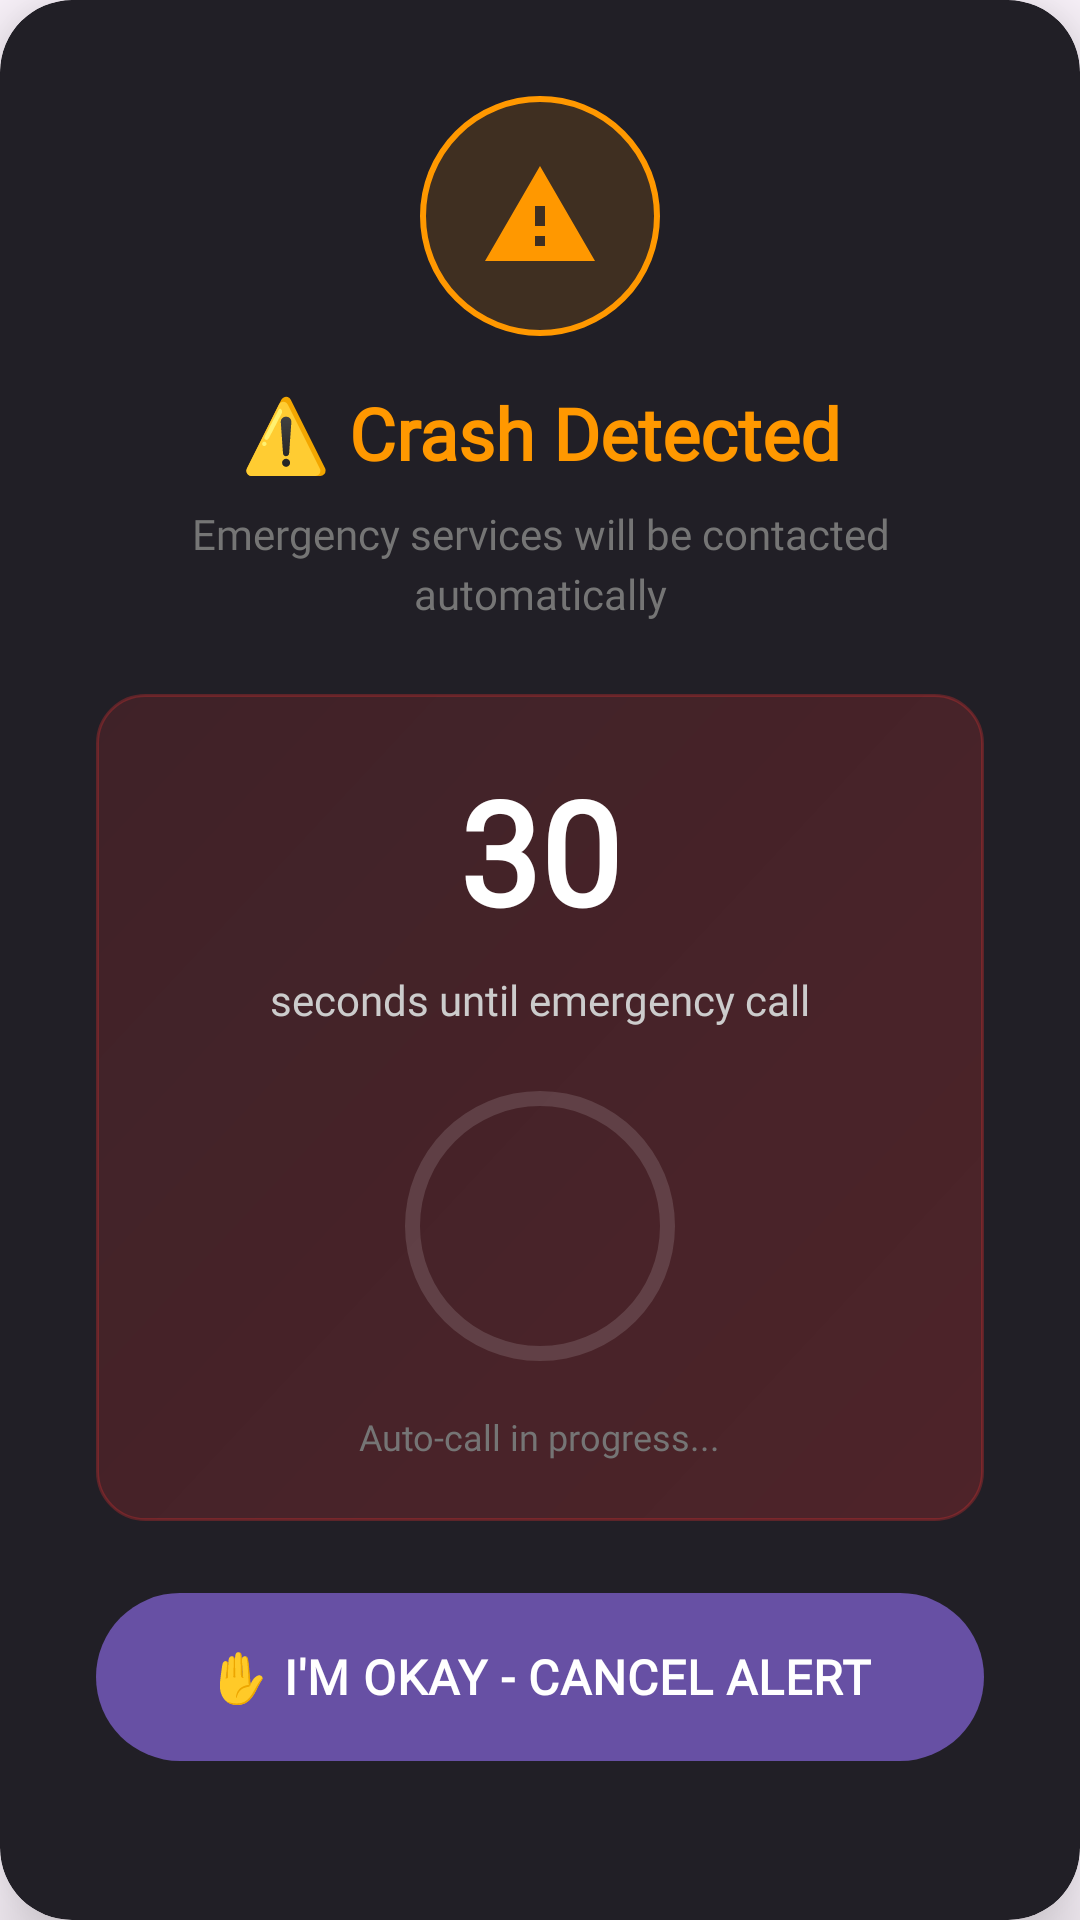

Where to tap for icons on this 1080px x 1920px app screen, as (x=x, y=y):
warning triangle: (x=540, y=216)
